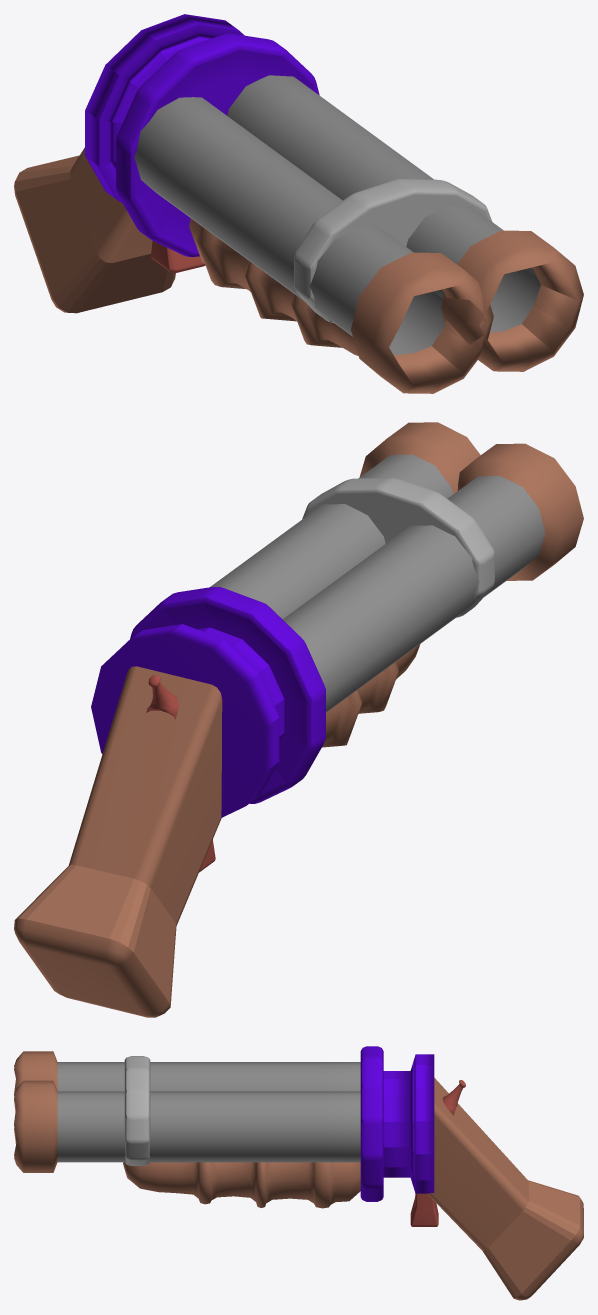
The model's file is ESCOPETA.fbx.
The picture shows the model from 3 angles, top to bottom: view 1: azimuth 30°, elevation 25°; view 2: azimuth 150°, elevation 25°; view 3: azimuth 270°, elevation 25°; orthographic projection. The views are drawn at different scales.
Parts seen in each view (by area): view 1: Cañon2, Cañon1, Accesorio1, Empuñadura1, Accesorio, pCube10, Gatillo; view 2: Empuñadura1, Cañon2, Accesorio1, Cañon1, Accesorio, pCube10, pCube11; view 3: Cañon1, Empuñadura1, Accesorio1, Cañon2, pCube10, Accesorio, Gatillo, pCube11.
Boxes of the visible parts, x1=… form: Cañon2: x1=134, y1=97, x2=493, y2=393; Cañon1: x1=227, y1=75, x2=583, y2=371; Accesorio1: x1=85, y1=14, x2=319, y2=256; Empuñadura1: x1=14, y1=147, x2=175, y2=313; Accesorio: x1=294, y1=179, x2=492, y2=322; pCube10: x1=189, y1=218, x2=358, y2=355; Gatillo: x1=151, y1=241, x2=205, y2=272; Empuñadura1: x1=14, y1=666, x2=222, y2=1017; Cañon2: x1=283, y1=443, x2=583, y2=712; Accesorio1: x1=91, y1=587, x2=325, y2=817; Cañon1: x1=210, y1=422, x2=480, y2=619; Accesorio: x1=302, y1=477, x2=494, y2=617; pCube10: x1=322, y1=644, x2=420, y2=747; pCube11: x1=146, y1=674, x2=178, y2=719; Cañon1: x1=14, y1=1080, x2=360, y2=1172; Empuñadura1: x1=427, y1=1078, x2=583, y2=1300; Accesorio1: x1=360, y1=1046, x2=434, y2=1201; Cañon2: x1=14, y1=1051, x2=360, y2=1128; pCube10: x1=123, y1=1162, x2=360, y2=1208; Accesorio: x1=124, y1=1056, x2=150, y2=1165; Gatillo: x1=410, y1=1193, x2=438, y2=1226; pCube11: x1=442, y1=1080, x2=465, y2=1115.
Bounding box in the file's own units: 22.13 × 34.6 × 77.73.
